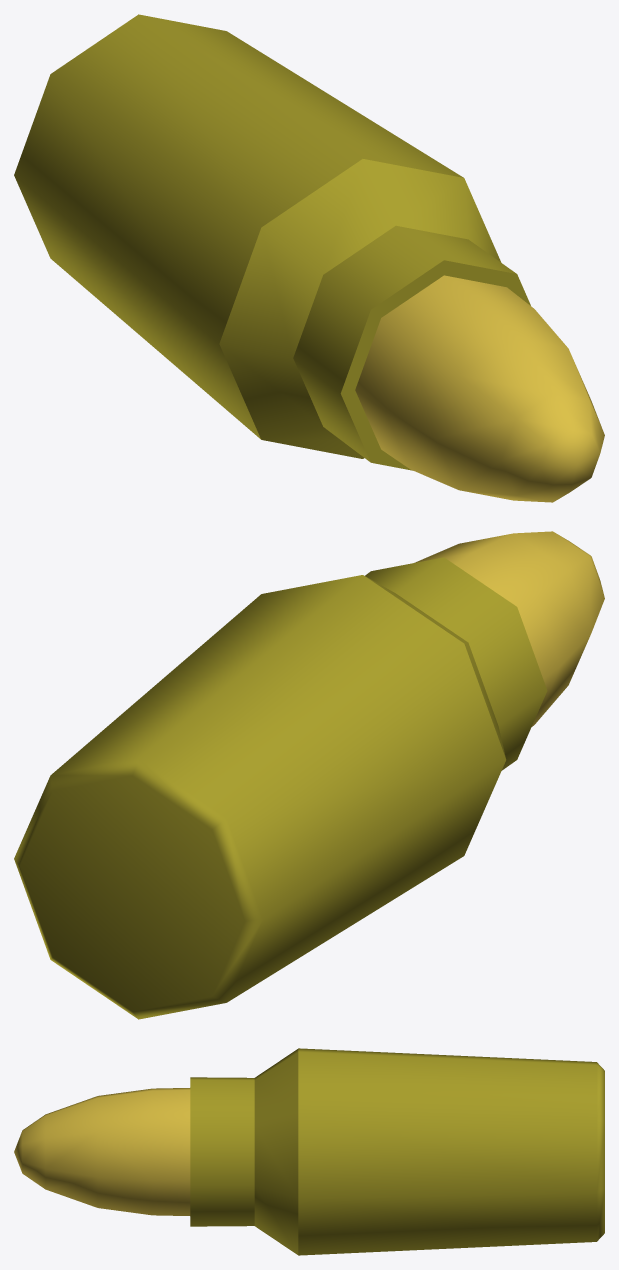
The model's file is bullet10.fbx.
3 views of the same model, one above another, from view 1: azimuth 30°, elevation 25°; view 2: azimuth 150°, elevation 25°; view 3: azimuth 270°, elevation 25° (orthographic). The views are drawn at different scales.
Parts seen in each view (by area): view 1: bullet10; view 2: bullet10; view 3: bullet10.
Part boxes in pixels (bbox=[...]): bullet10: bbox=[14, 14, 604, 502]; bullet10: bbox=[14, 531, 604, 1019]; bullet10: bbox=[14, 1048, 604, 1255].
Bounding box in the file's own units: 27.4 × 27.4 × 73.44.
